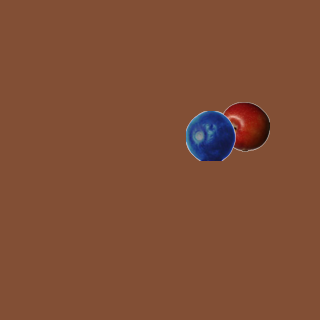Apple Braeburn: (219, 101, 269, 151)
Huckleberry: (185, 110, 235, 160)
